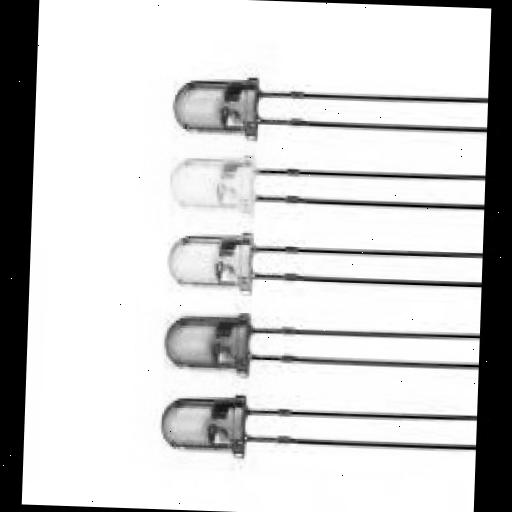LED: (132, 370, 466, 470), (150, 296, 482, 392), (158, 56, 472, 156), (156, 142, 472, 236), (164, 234, 496, 316)
